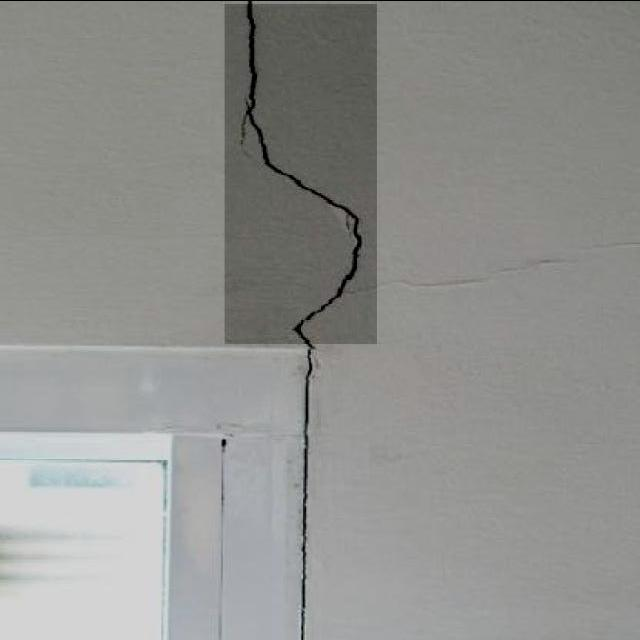SurfaceCrack: (232, 0, 396, 354)
